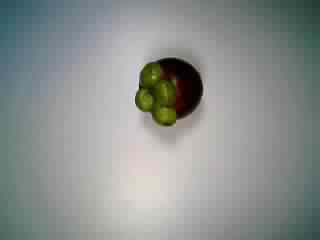mangosteen: (129, 55, 203, 125)
